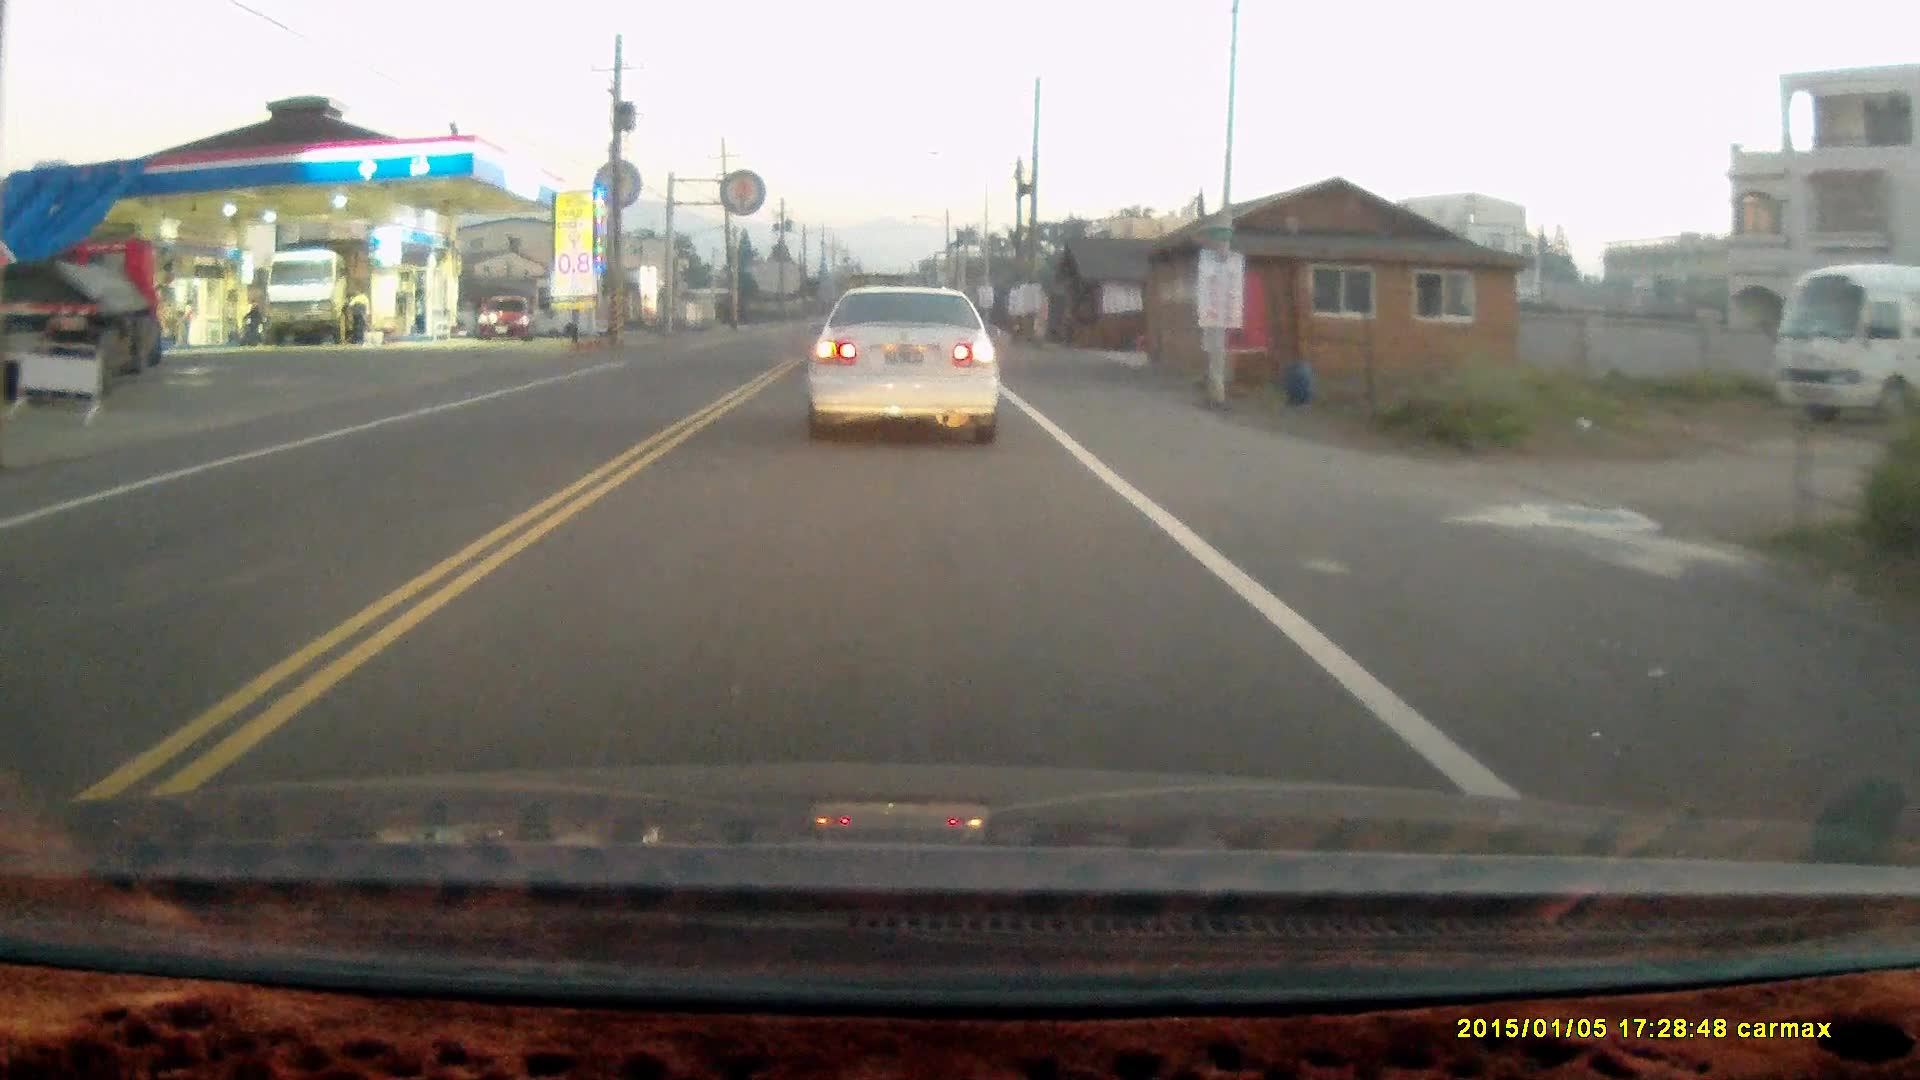pedestrian: (342, 285, 374, 339)
vehicle: (802, 276, 1005, 440), (20, 227, 166, 395), (265, 246, 371, 347), (481, 296, 534, 341)
